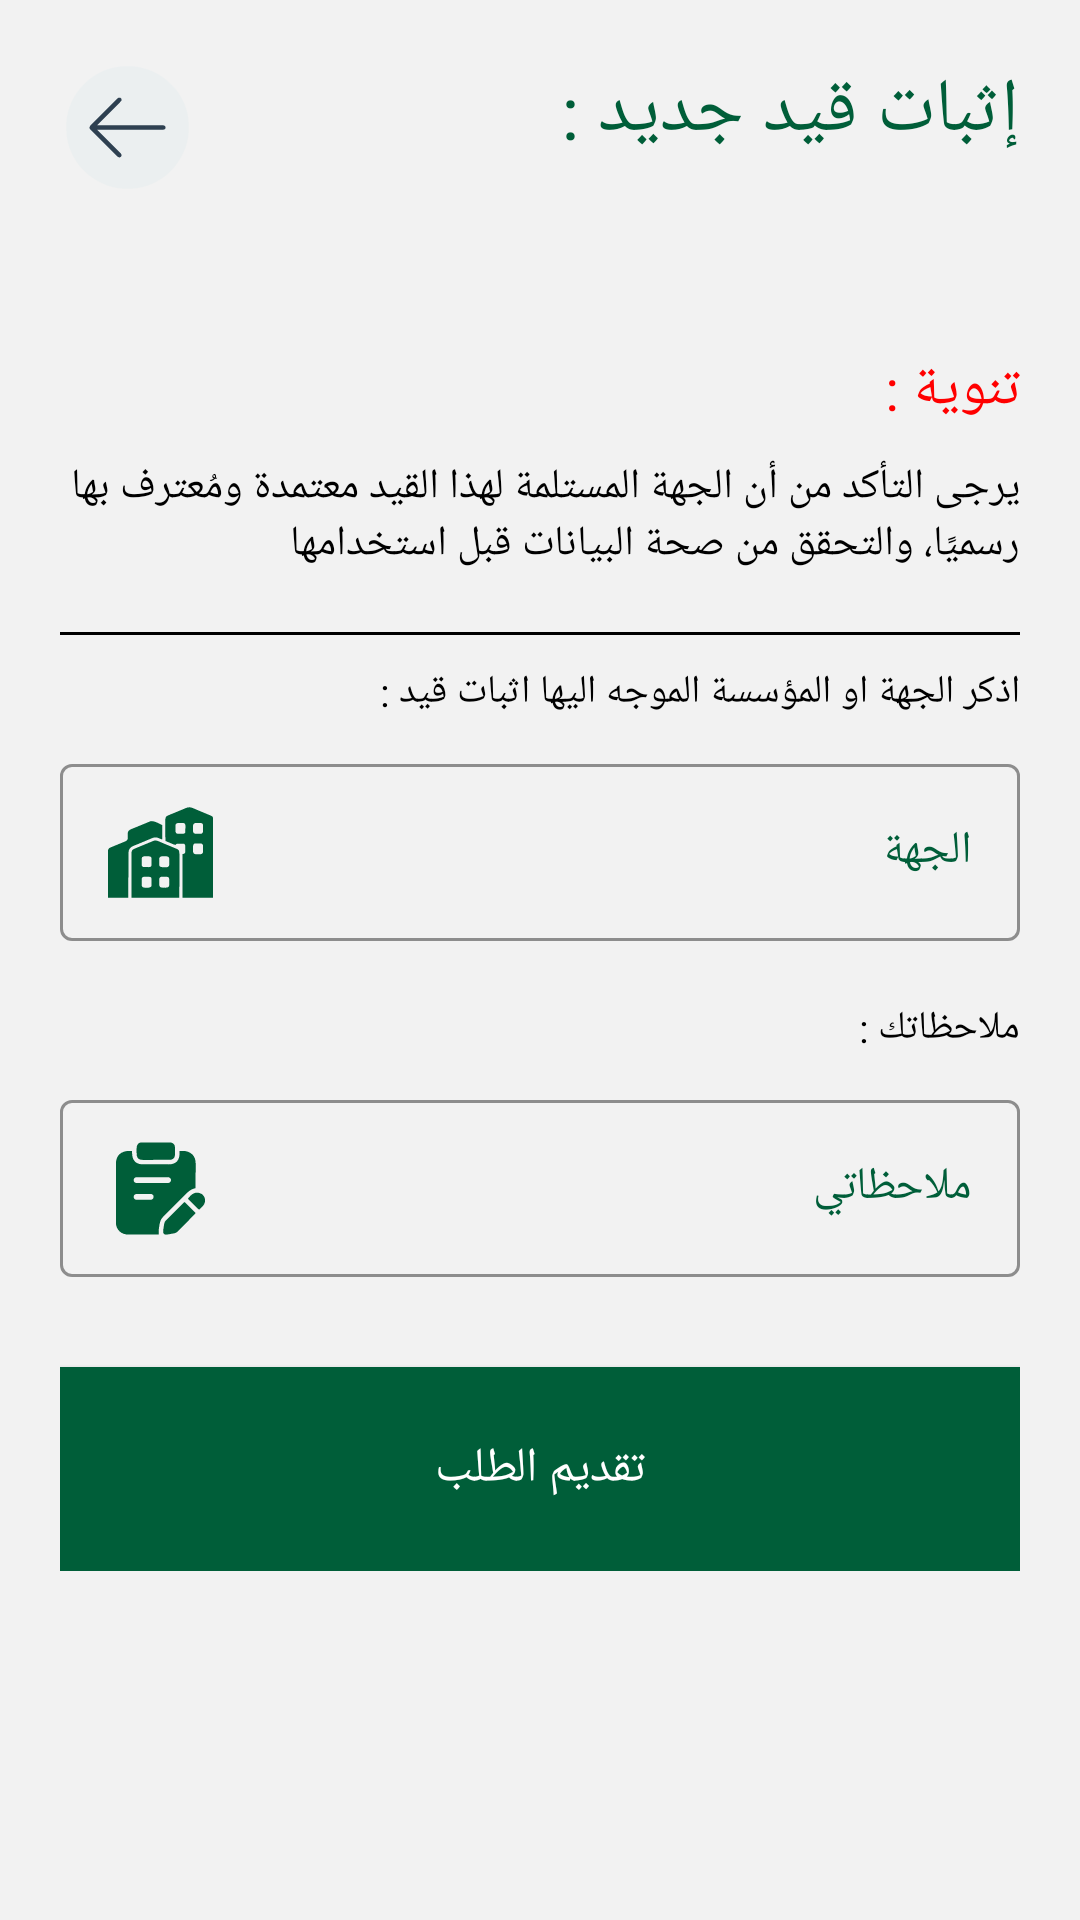

Locate icon controls on the screen. Image size 1080 × 1920, boxes as [x1=x1, y1=y1, x2=x2, y2=y2].
left arrow: [x1=89, y1=97, x2=166, y2=158]
